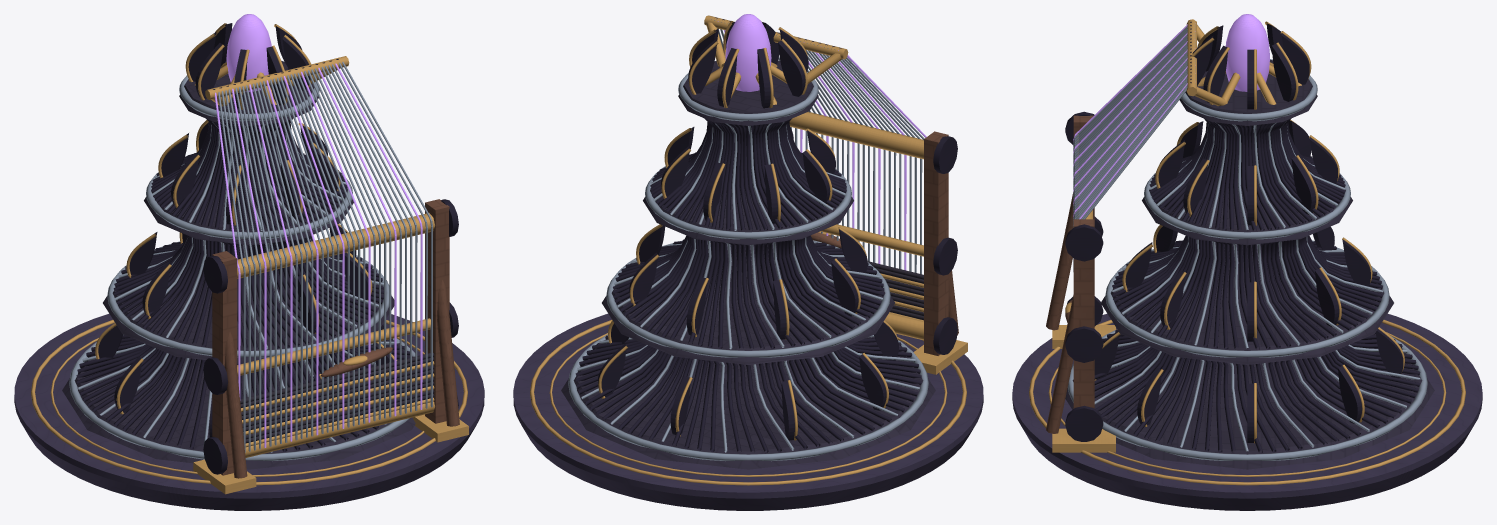
File: umbral-blade-loom.glb
3 views of the same model, side by side, from view 1: azimuth 30°, elevation 25°; view 2: azimuth 150°, elevation 25°; view 3: azimuth 270°, elevation 25° (orthographic).
Size of the model in its own units: 9.16 by 8.61 by 9.16.
Materials: 8 (8 with a texture image).
